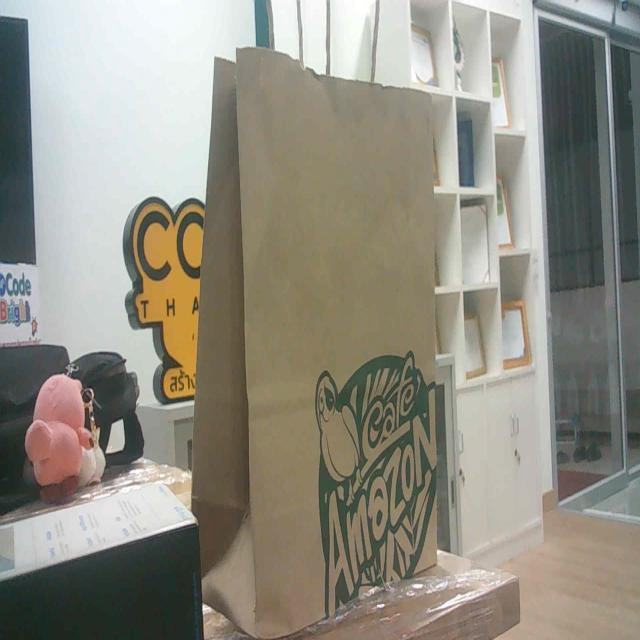bag: (197, 10, 475, 640)
